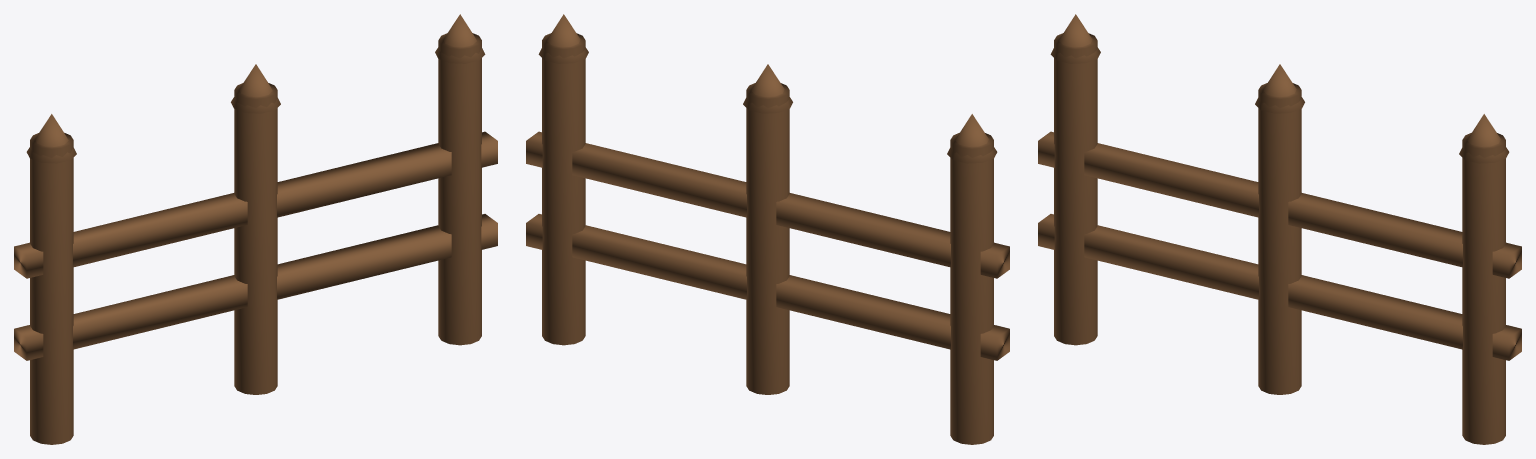
Rendered from fence.obj.
The picture shows the model from 3 angles, left to right: view 1: azimuth 30°, elevation 25°; view 2: azimuth 150°, elevation 25°; view 3: azimuth 330°, elevation 25°; orthographic projection.
Bounding box in the file's own units: 3 × 1.96 × 0.2662.
